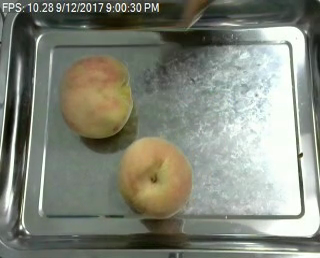Peach: (59, 52, 133, 138), (118, 137, 192, 217)
